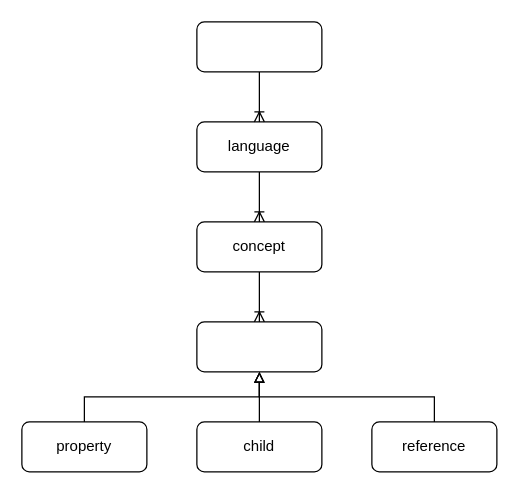
Some shapes in this 519 by 494 pixel diagram are drawn without their labels. Here are the shapes that lost their labels. From the top down, the centre of each, then its label:
point (259, 46): registry
point (259, 346): feature
